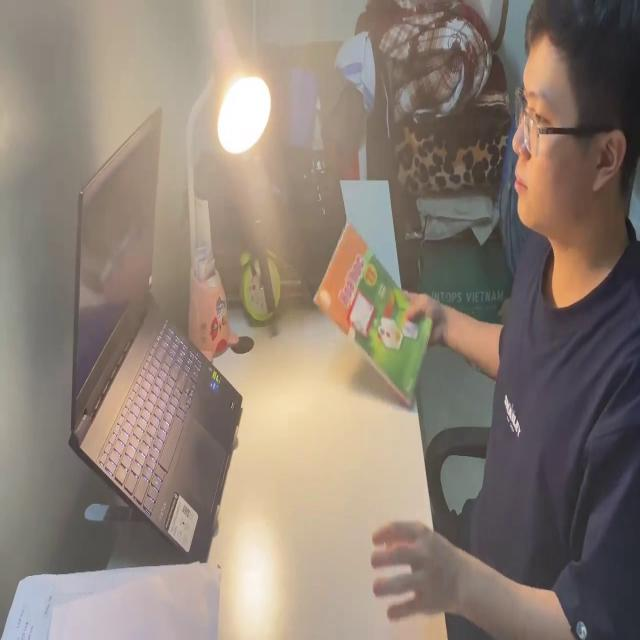book: (316, 215, 436, 416), (6, 552, 219, 640)
laptop: (61, 106, 246, 559)
student: (369, 0, 640, 640)
